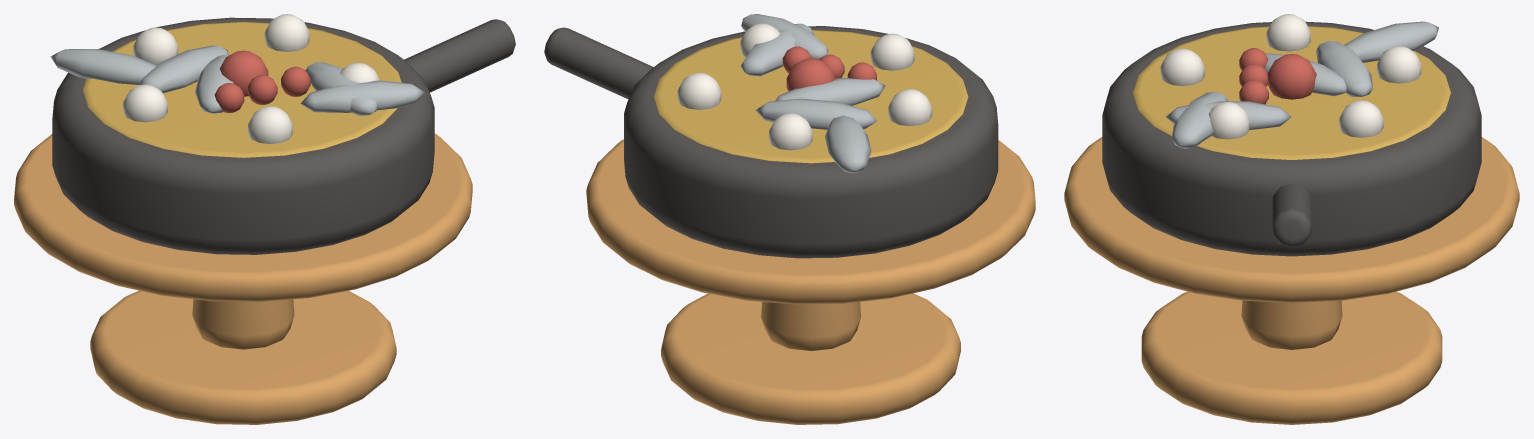
Rendered from garlic_fish_skillet.glb.
3 renders of one model, left to right at view 1: azimuth 30°, elevation 25°; view 2: azimuth 150°, elevation 25°; view 3: azimuth 270°, elevation 25°, orthographic. The views are drawn at different scales.
Visible parts, largest first — view 1: garlic_fish_skillet_mesh; view 2: garlic_fish_skillet_mesh; view 3: garlic_fish_skillet_mesh.
Boxes of the visible parts, x1,y1,x2,y2 form: garlic_fish_skillet_mesh: (14, 14, 515, 424); garlic_fish_skillet_mesh: (544, 14, 1035, 424); garlic_fish_skillet_mesh: (1064, 14, 1519, 424).
Size of the model in its own units: 0.4216 by 0.27 by 0.36.
